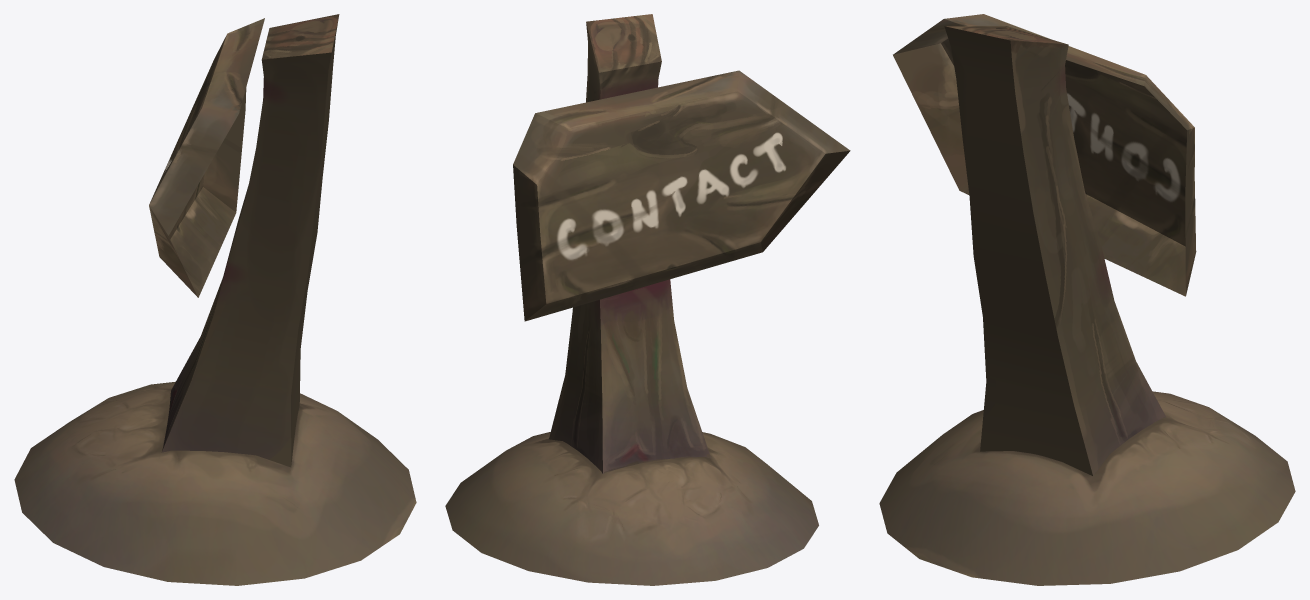
File: contact.glb
3 views of the same model, side by side, from view 1: azimuth 30°, elevation 25°; view 2: azimuth 150°, elevation 25°; view 3: azimuth 270°, elevation 25° (orthographic). The views are drawn at different scales.
Parts seen in each view (by area): view 1: WoodSign; view 2: WoodSign; view 3: WoodSign.
Boxes of the visible parts, bbox=[...] form: WoodSign: bbox=[14, 14, 416, 585]; WoodSign: bbox=[445, 14, 850, 585]; WoodSign: bbox=[879, 14, 1295, 585].
Size of the model in its own units: 0.2412 by 0.3283 by 0.2417.
Materials: 1 (1 with a texture image).
